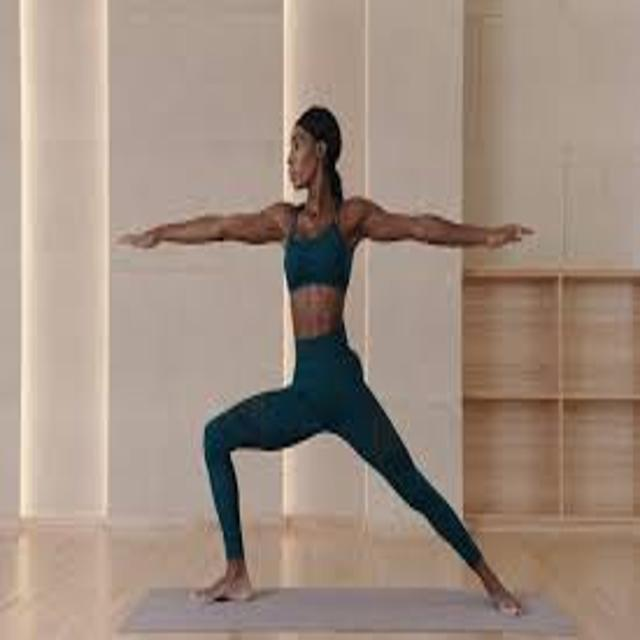Warrior_II: (111, 106, 527, 623)
